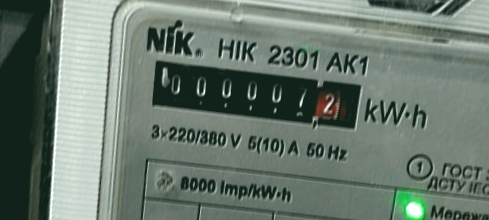0: (169, 70, 186, 96), (246, 78, 263, 102), (221, 75, 237, 100), (270, 80, 286, 105), (195, 74, 211, 97)
2: (322, 91, 338, 116)
7: (296, 84, 311, 109)
screen: (140, 46, 374, 142)
